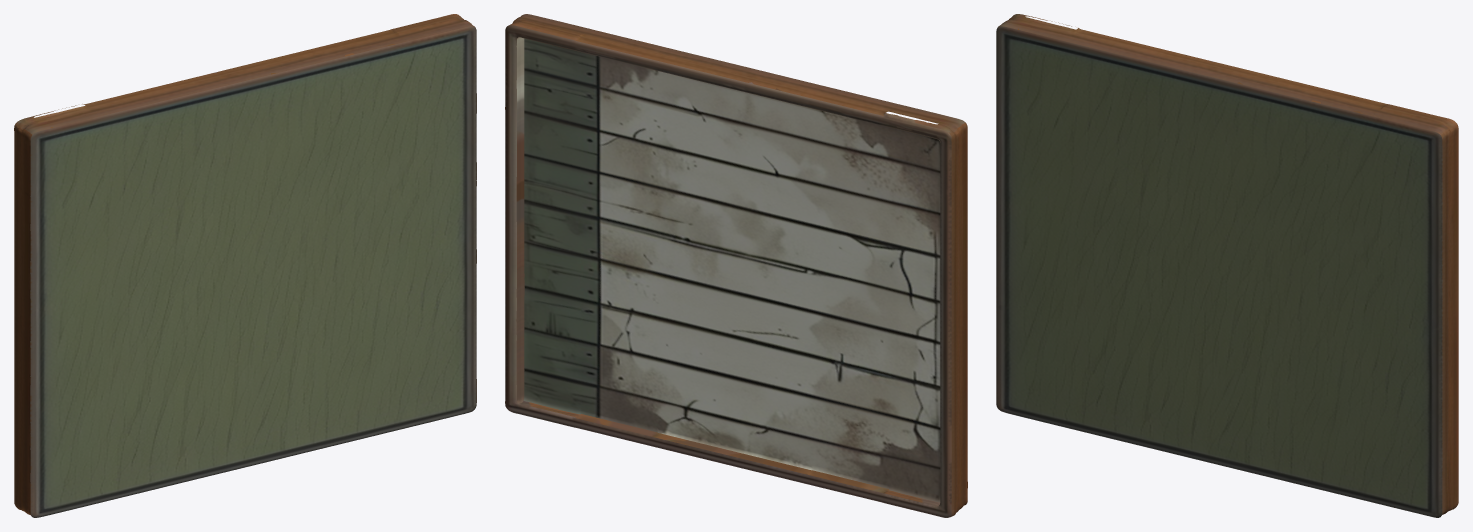
File: Wall-Clapboard-1.glb
3 views of the same model, side by side, from view 1: azimuth 30°, elevation 25°; view 2: azimuth 150°, elevation 25°; view 3: azimuth 330°, elevation 25° (orthographic).
Parts seen in each view (by area): view 1: tmpmnxws9sq.ply; view 2: tmpmnxws9sq.ply; view 3: tmpmnxws9sq.ply.
Part boxes in pixels (left/top/right/bottom): tmpmnxws9sq.ply: left=14, top=14, right=476, bottom=517; tmpmnxws9sq.ply: left=505, top=14, right=967, bottom=517; tmpmnxws9sq.ply: left=996, top=14, right=1458, bottom=517.
Size of the model in its own units: 3 by 2.5 by 0.2.
Materials: 1 (1 with a texture image).
